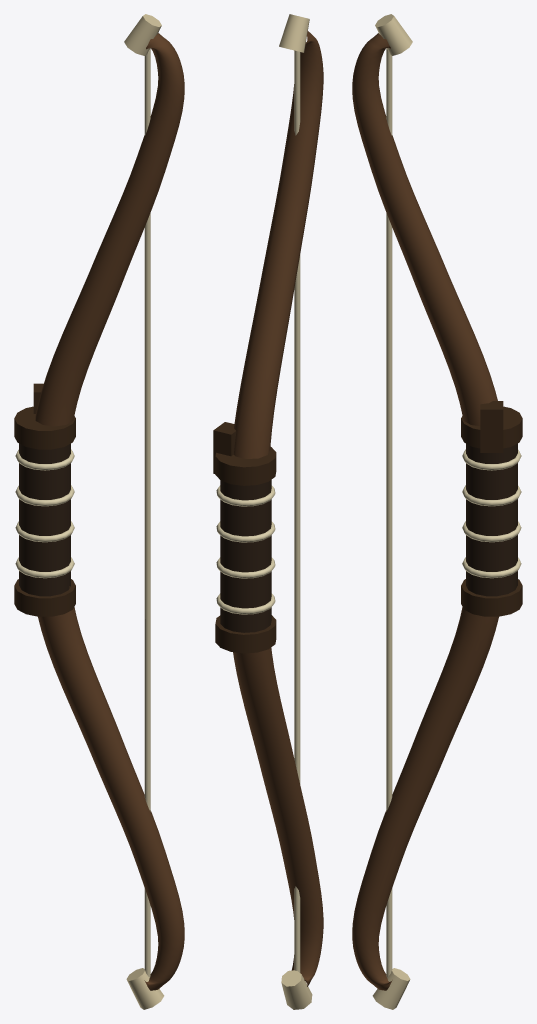
Rendered from bow-v1.glb.
3 views of the same model, side by side, from view 1: azimuth 90°, elevation 25°; view 2: azimuth 150°, elevation 25°; view 3: azimuth 270°, elevation 25° (orthographic).
Parts seen in each view (by area): view 1: WeaponDrawn; view 2: WeaponDrawn; view 3: WeaponDrawn.
Boxes of the visible parts, x1,y1,x2,y2 form: WeaponDrawn: [14, 14, 184, 1009]; WeaponDrawn: [213, 14, 323, 1009]; WeaponDrawn: [352, 14, 522, 1009].
Size of the model in its own units: 0.0889 by 1.6 by 0.2491.
